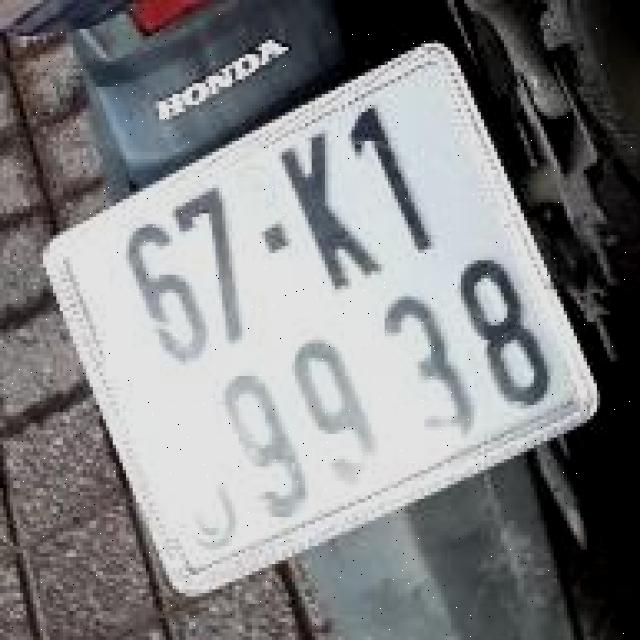0: (138, 394, 254, 573)
1: (331, 85, 453, 271)
3: (364, 273, 491, 457)
6: (108, 204, 224, 376)
7: (168, 175, 276, 356)
8: (442, 231, 566, 421)
9: (277, 315, 403, 499), (201, 354, 324, 530)
K: (271, 112, 392, 306)
